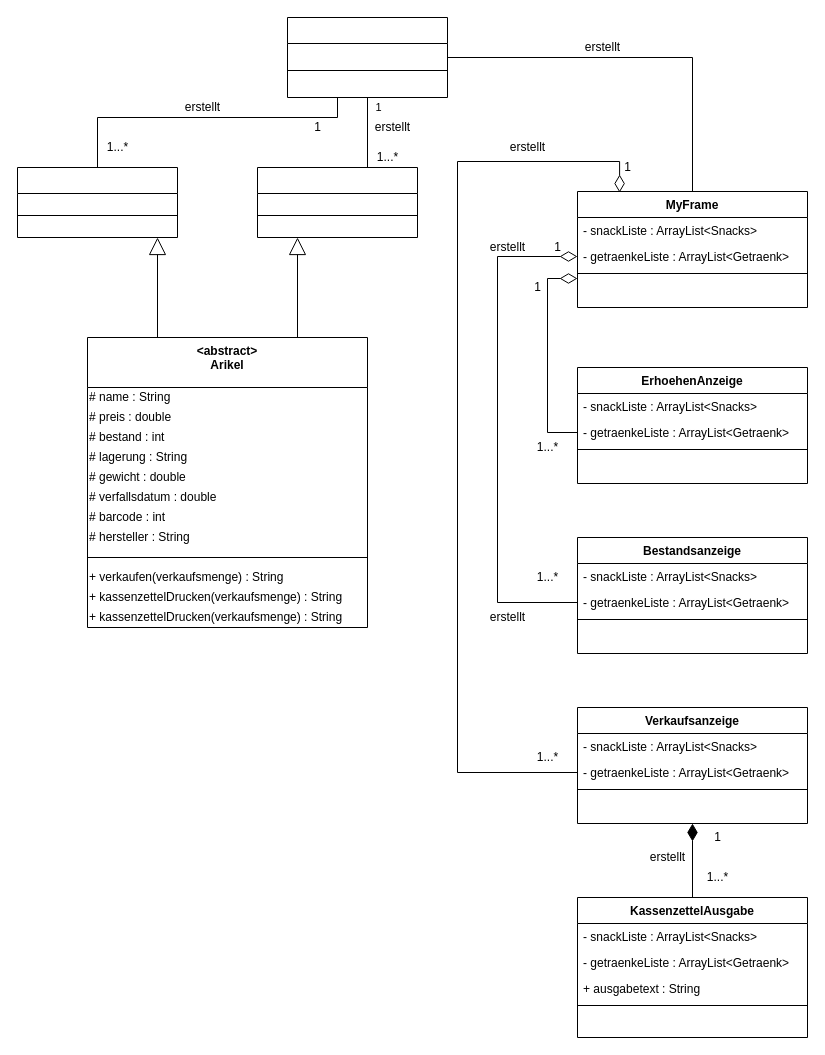
The diagram is 825 pixels wide and 1055 high, and some of its shapes have lost their labels. Here are the shapes that lost their labels. From the top down, the centre of each, then its label:
[367,57]: Getraenkeverwaltung
[97,202]: Getraenk
[337,202]: Snacks
